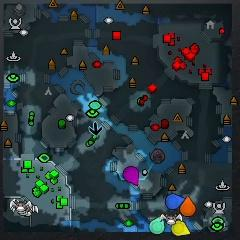p1: (165, 194, 185, 209)
p2: (149, 216, 165, 235)
p3: (123, 167, 139, 185)
p4: (172, 220, 190, 236)
p5: (180, 196, 196, 217)
x3Clone: (88, 122, 103, 136)
